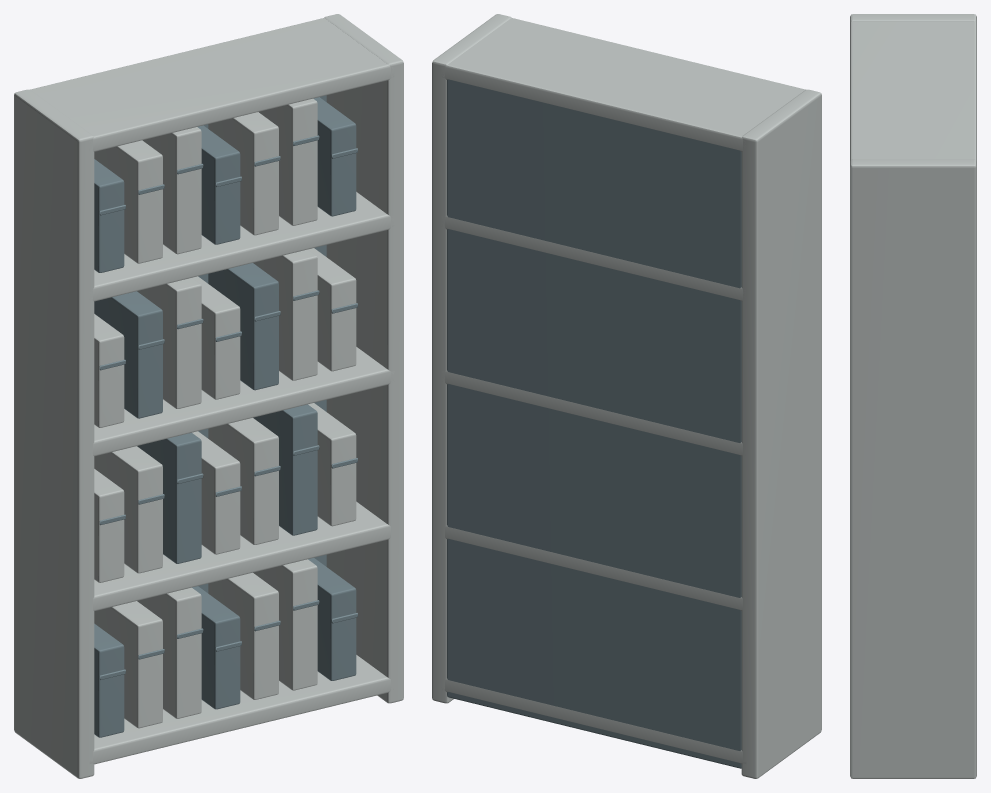
File: bookcase.glb
3 renders of one model, left to right at view 1: azimuth 30°, elevation 25°; view 2: azimuth 150°, elevation 25°; view 3: azimuth 270°, elevation 25°, orthographic. The views are drawn at different scales.
Parts seen in each view (by area): view 1: bookcase_side, bookcase_side.001, shelf.004, shelf.003, shelf.002, shelf.001, shelf, book_1_4, book_2_4, book_0_4, book_1_1, book_2_1 (+23 smaller); view 2: back_panel, bookcase_side, shelf.004, bookcase_side.001, shelf.003, shelf.002, shelf, shelf.001; view 3: bookcase_side.001, shelf.004, bookcase_side.
Part boxes in pixels (x1,y1,x2,y2): bookcase_side: (14,89,94,778); bookcase_side.001: (324,14,403,703); shelf.004: (30,18,394,151); shelf.003: (89,192,393,301); shelf.002: (90,347,394,456); shelf.001: (93,501,390,611); shelf: (89,655,393,764); book_1_4: (208,418,278,544); book_2_4: (208,263,278,390); book_0_4: (208,572,278,699); book_1_1: (94,446,162,573); book_2_1: (94,291,162,418); back_panel: (447,79,741,768); bookcase_side: (741,89,821,778); shelf.004: (441,18,805,151); bookcase_side.001: (432,14,511,703); shelf.003: (442,215,745,301); shelf.002: (442,370,743,456); shelf: (442,678,746,764); shelf.001: (445,525,742,611); bookcase_side.001: (850,159,976,778); shelf.004: (850,21,976,161); bookcase_side: (850,14,976,22).
Bounding box in the file's own units: 0.97 × 1.82 × 0.34.
